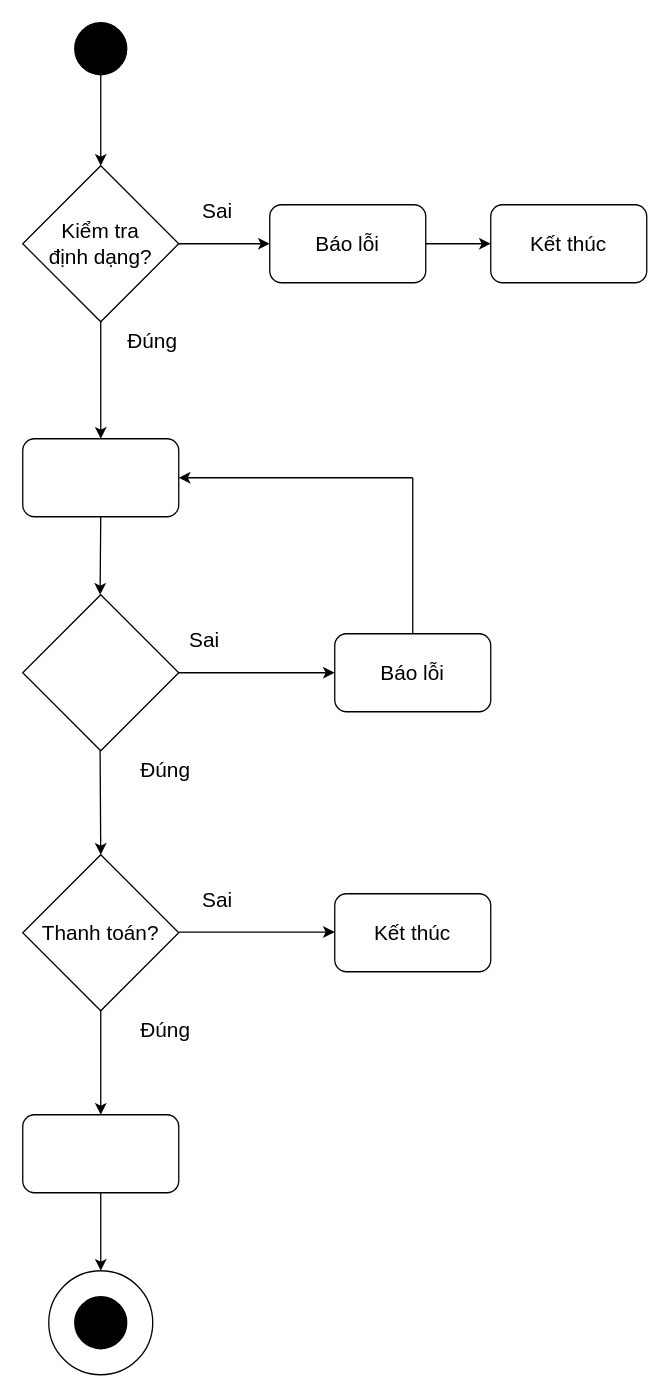
The diagram is 670 pixels wide and 1398 high, and some of its shapes have lost their labels. Each missing label, with the centre of its shape:
"Món tồn tại?" belongs at (x=100, y=672).
"Reset" belongs at (x=100, y=1153).
"Thêm món" belongs at (x=100, y=477).
